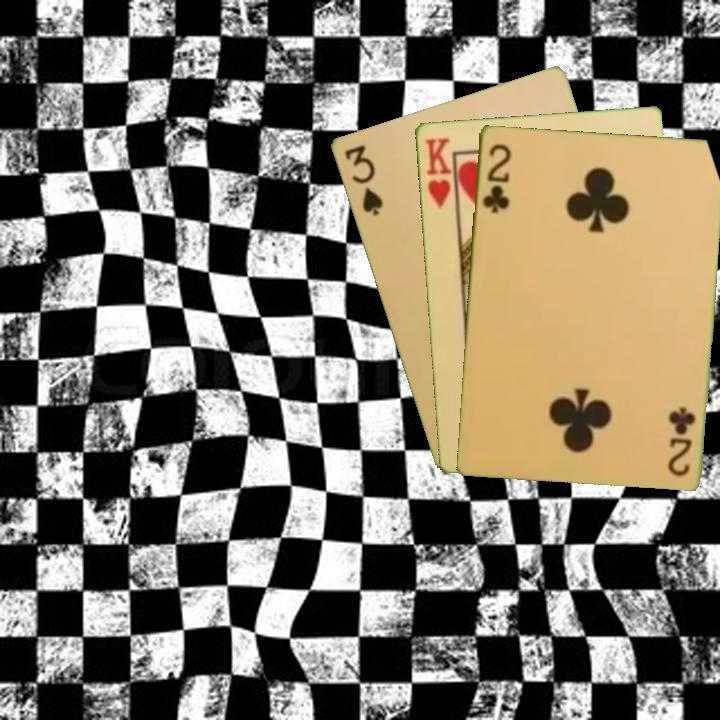2c: (478, 139, 514, 216), (665, 403, 698, 478)
3s: (340, 141, 386, 219)
Kh: (421, 134, 458, 214)
